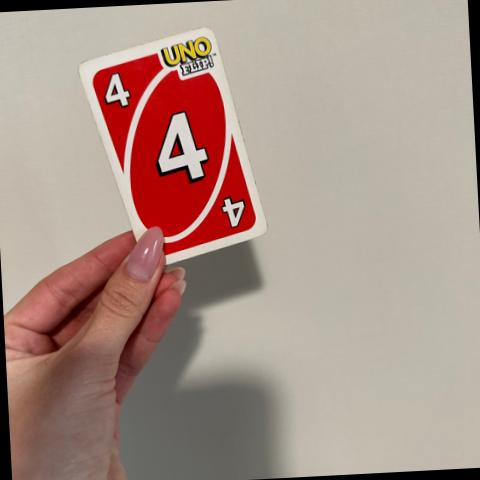lred-4: (96, 61, 146, 118)
